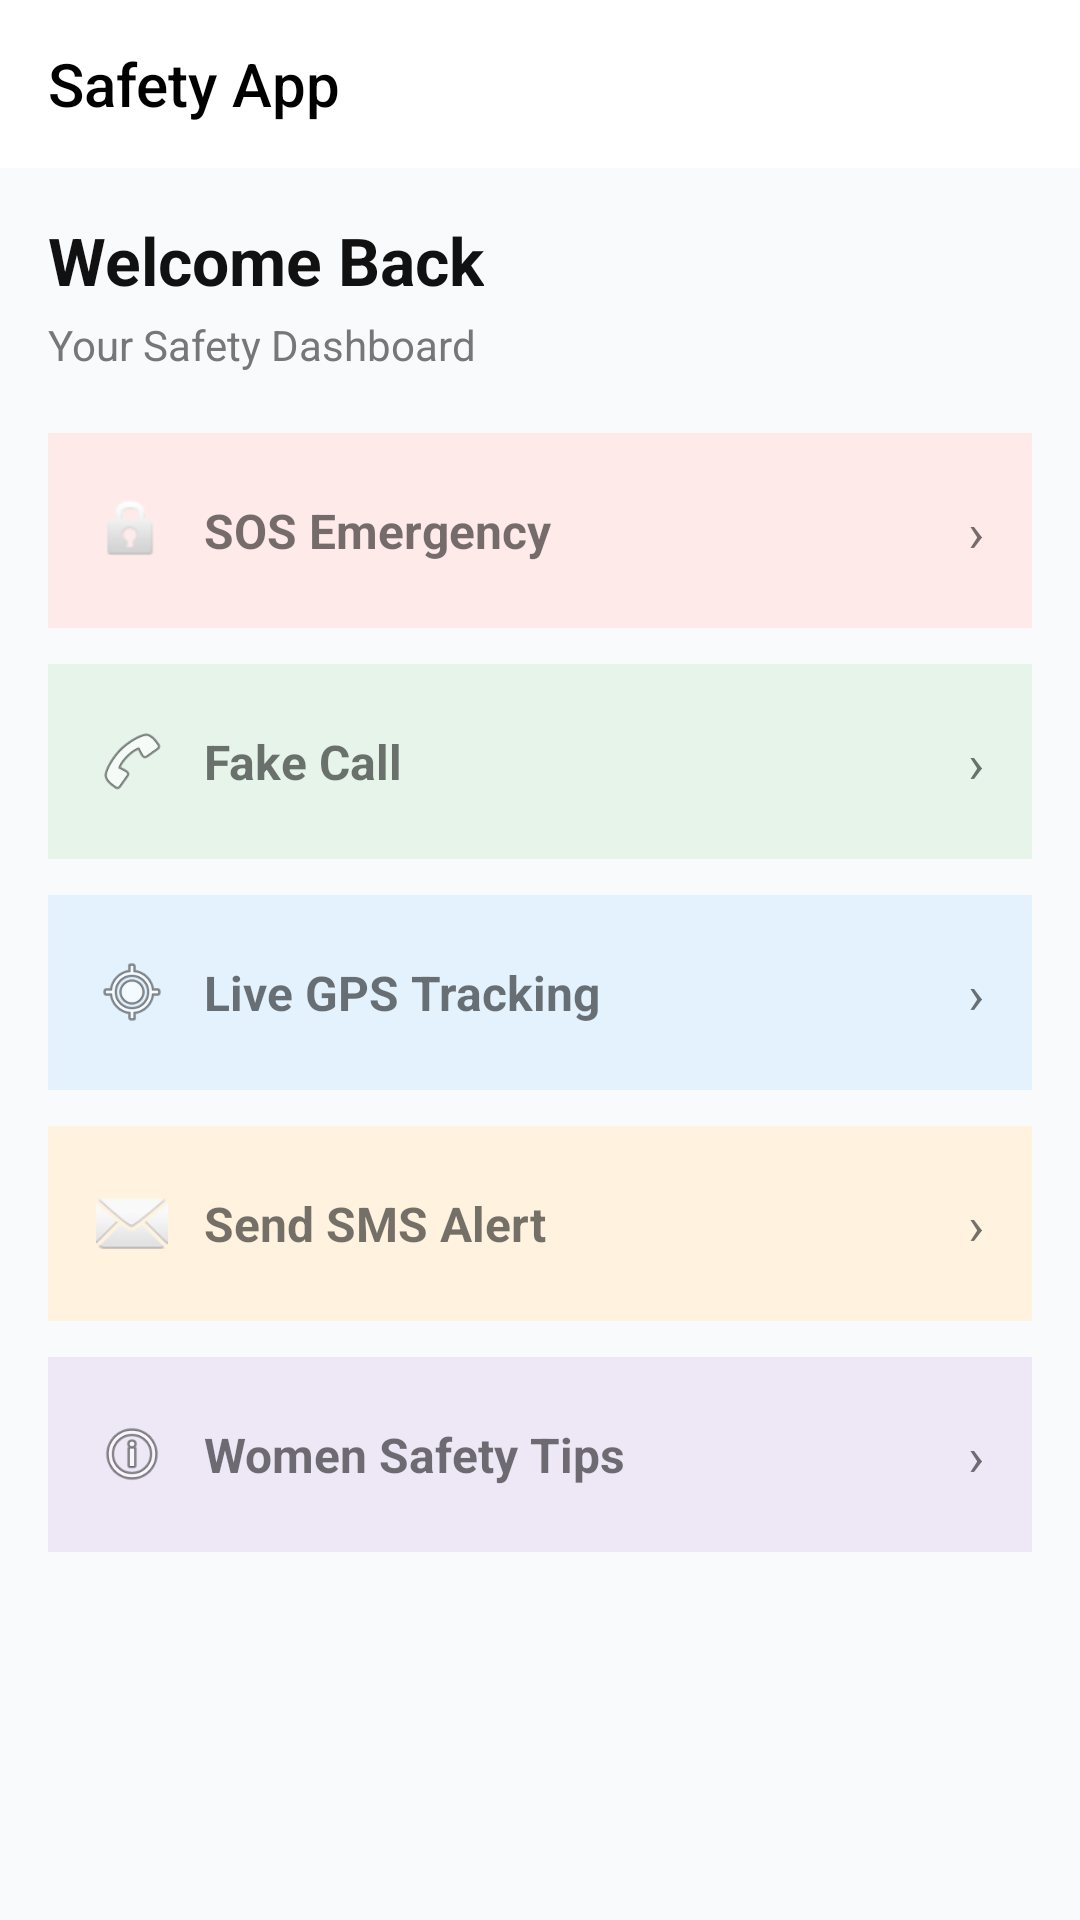

Icons on this 1080px×1920px Android screen, each with its box as (x1,y1,x2,y2):
email: (96,1199,168,1249)
info details: (106,1428,158,1480)
mylocation: (103,963,161,1021)
